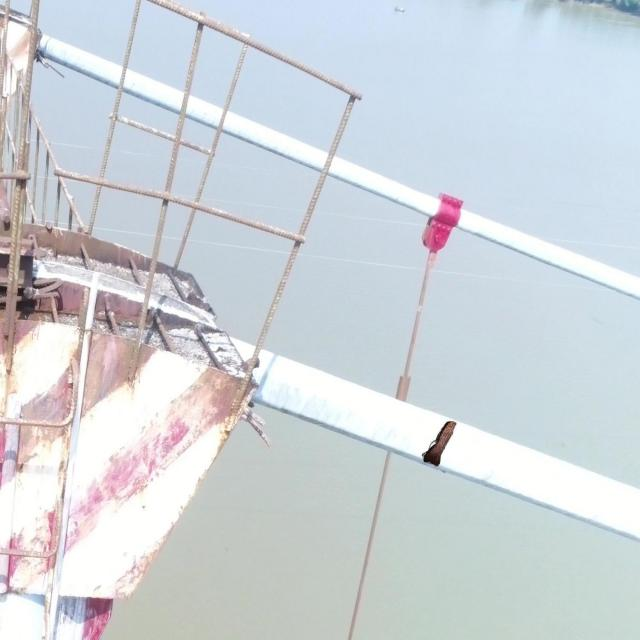corrosion: (421, 418, 457, 466)
